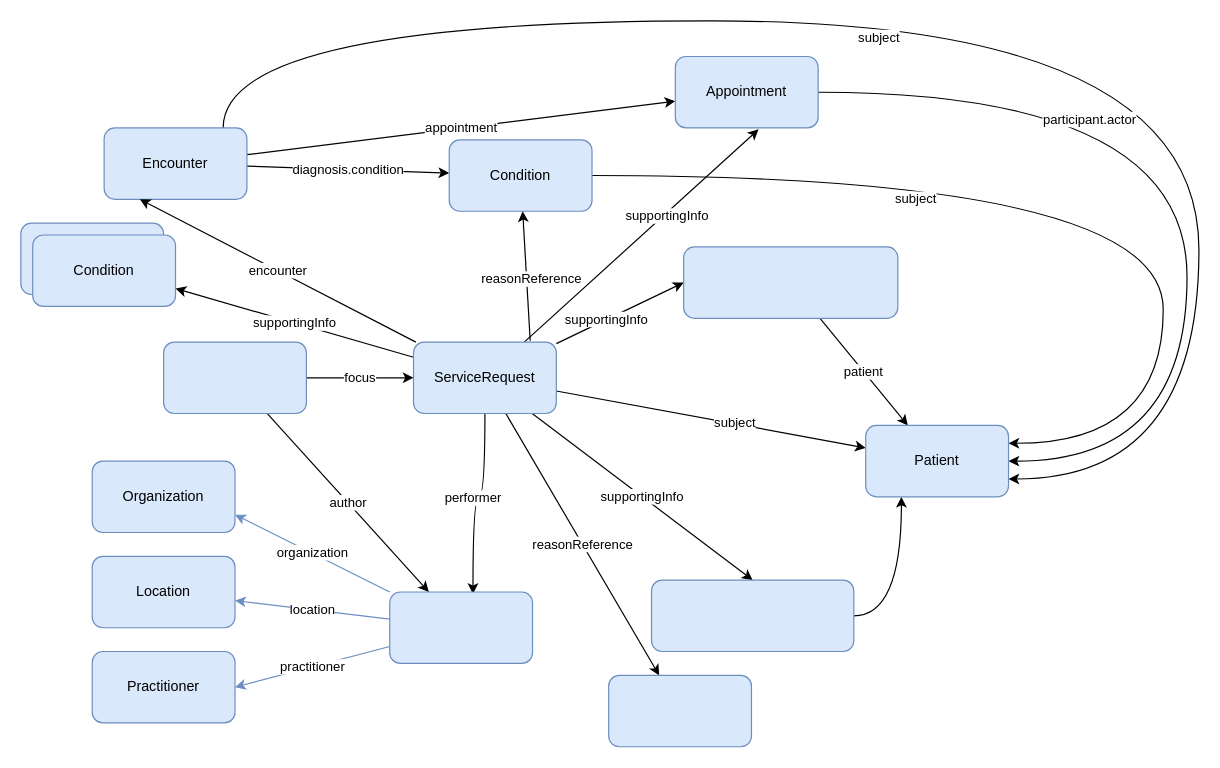
The diagram is 1220 pixels wide and 768 high, and some of its shapes have lost their labels. Each missing label, with the centre of its shape:
AllergyIntolerance: pixel 790 282
MessageHeader: pixel 234 377
Observation: pixel 679 710
PractitionerRole: pixel 461 627
QuestionnnaireResponse: pixel 752 615
